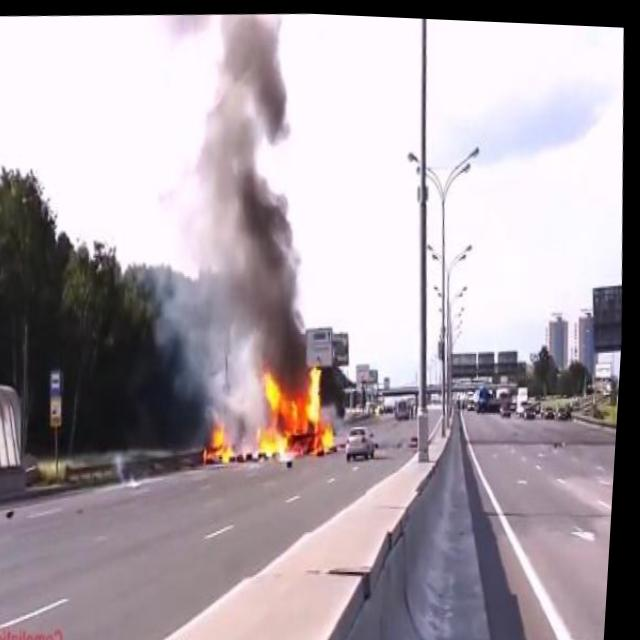fire: (249, 352, 347, 461), (207, 418, 244, 466)
